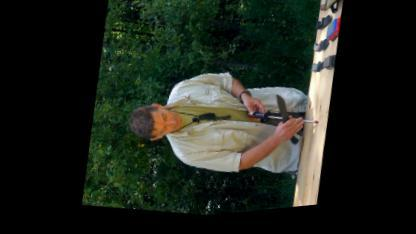knife: (264, 96, 304, 154)
